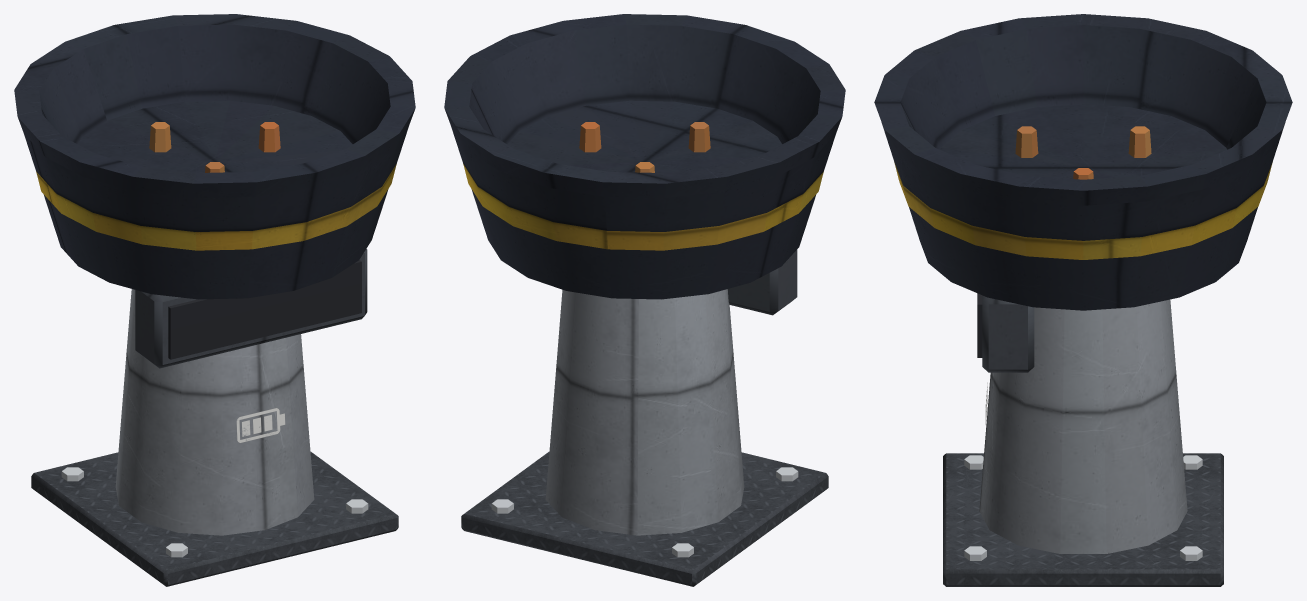
The model's file is socket.glb.
3 renders of one model, left to right at view 1: azimuth 30°, elevation 25°; view 2: azimuth 150°, elevation 25°; view 3: azimuth 270°, elevation 25°, orthographic. The views are drawn at different scales.
Parts seen in each view (by area): view 1: socket_body; view 2: socket_body; view 3: socket_body.
Boxes of the visible parts, x1,y1,x2,y2 form: socket_body: [14, 14, 415, 586]; socket_body: [444, 14, 845, 586]; socket_body: [874, 14, 1292, 586].
Size of the model in its own units: 1.28 by 1.44 by 1.28.
Materials: 6 (4 with a texture image).
